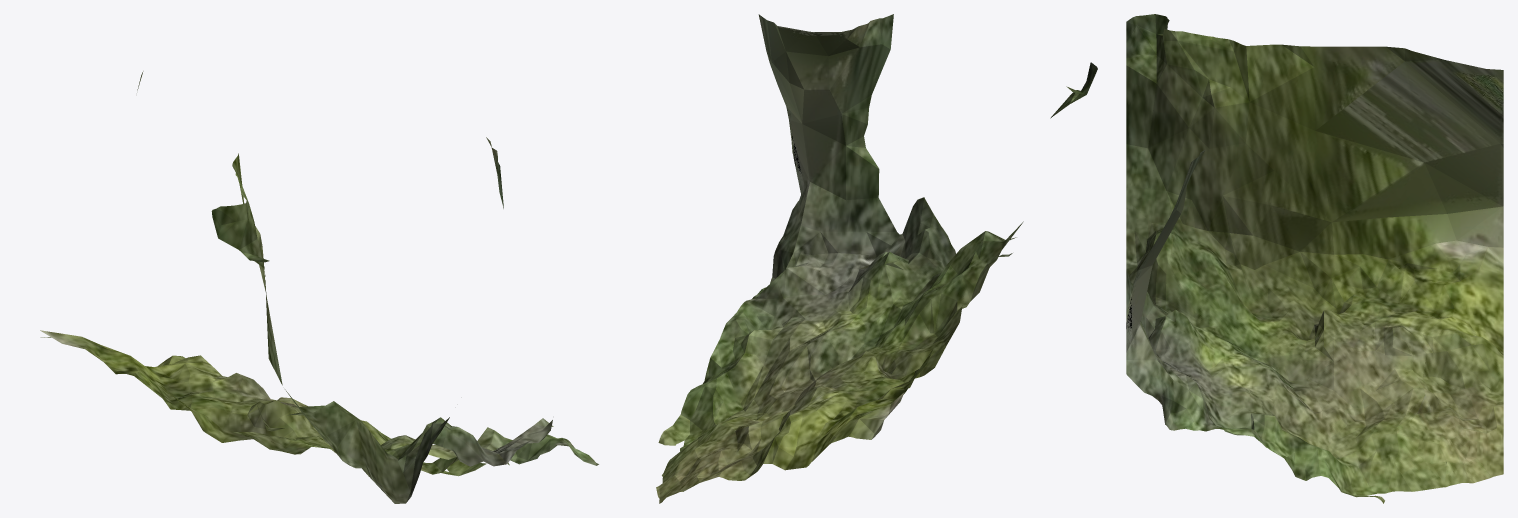
3 renders of one model, left to right at view 1: azimuth 30°, elevation 25°; view 2: azimuth 150°, elevation 25°; view 3: azimuth 270°, elevation 25°, orthographic. The views are drawn at different scales.
Size of the model in its own units: 5.47 by 5.9 by 5.9.
Materials: 4 (4 with a texture image).
